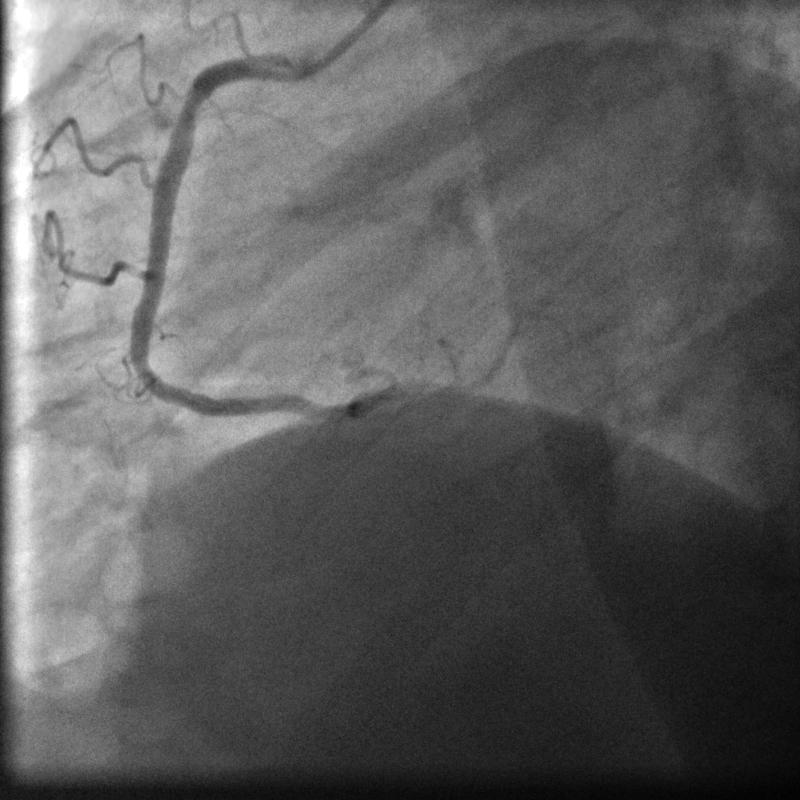Stenosis: (178, 78, 205, 144)
